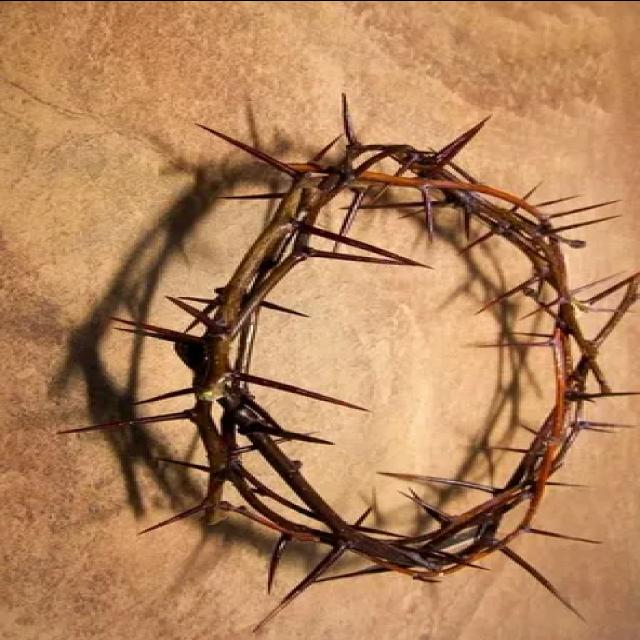crown: (144, 118, 640, 586)
